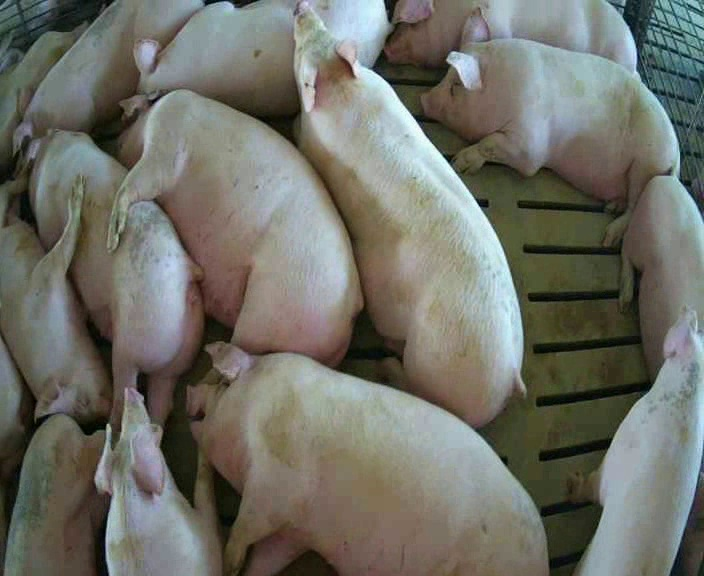pig: (294, 6, 524, 425), (186, 342, 547, 574), (20, 130, 203, 423), (569, 310, 703, 574), (14, 2, 203, 149), (95, 388, 221, 574), (384, 2, 636, 71), (619, 175, 703, 377), (5, 414, 108, 574), (0, 27, 84, 177)
